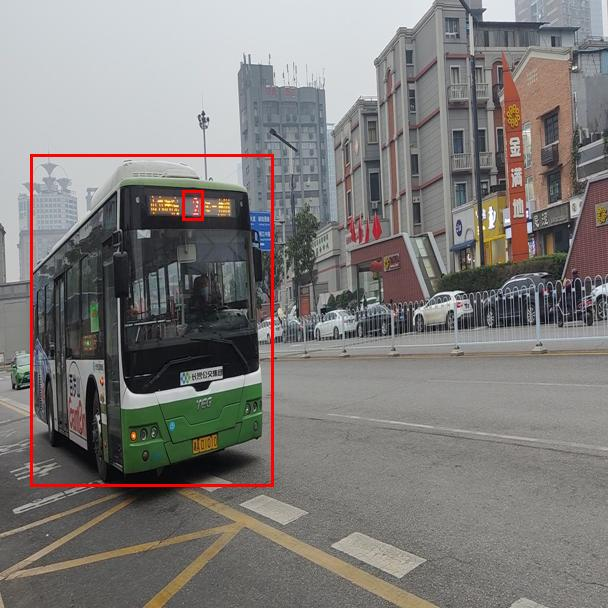bus: (30, 154, 273, 486)
screen: (182, 190, 203, 220)
